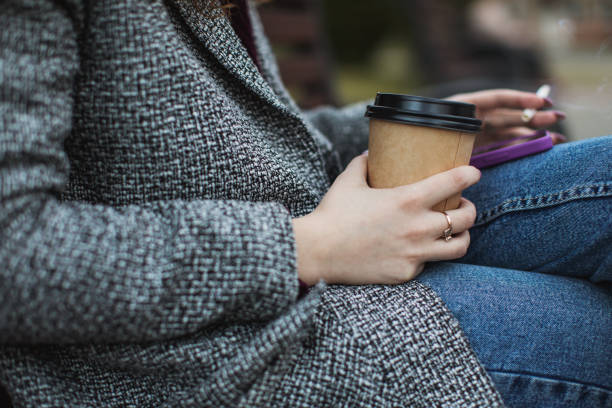cigarette: (521, 83, 553, 123)
